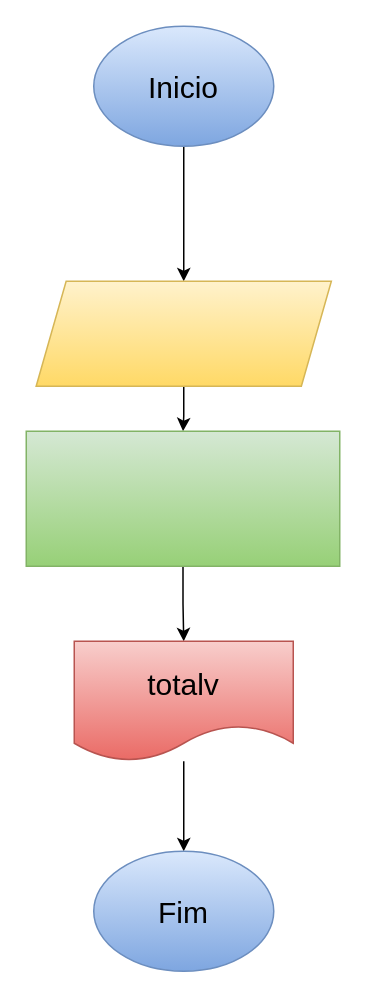
The diagram is 366 pixels wide and 998 high, and some of its shapes have lost their labels. Each missing label, with the centre of its shape:
Salf,totalv,NumeV: point (183, 333)
totalv = NumeV*0.15 totalv = totalv+Salf: point (182, 498)
